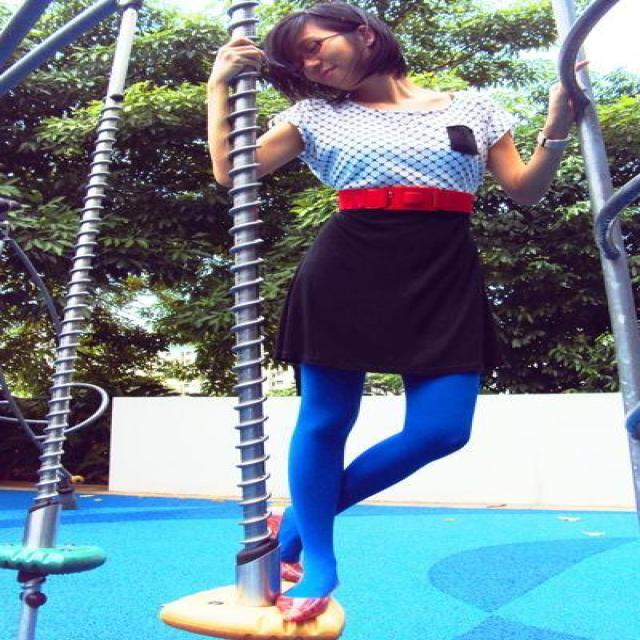dress: (249, 79, 516, 396)
shoe: (259, 560, 320, 619)
